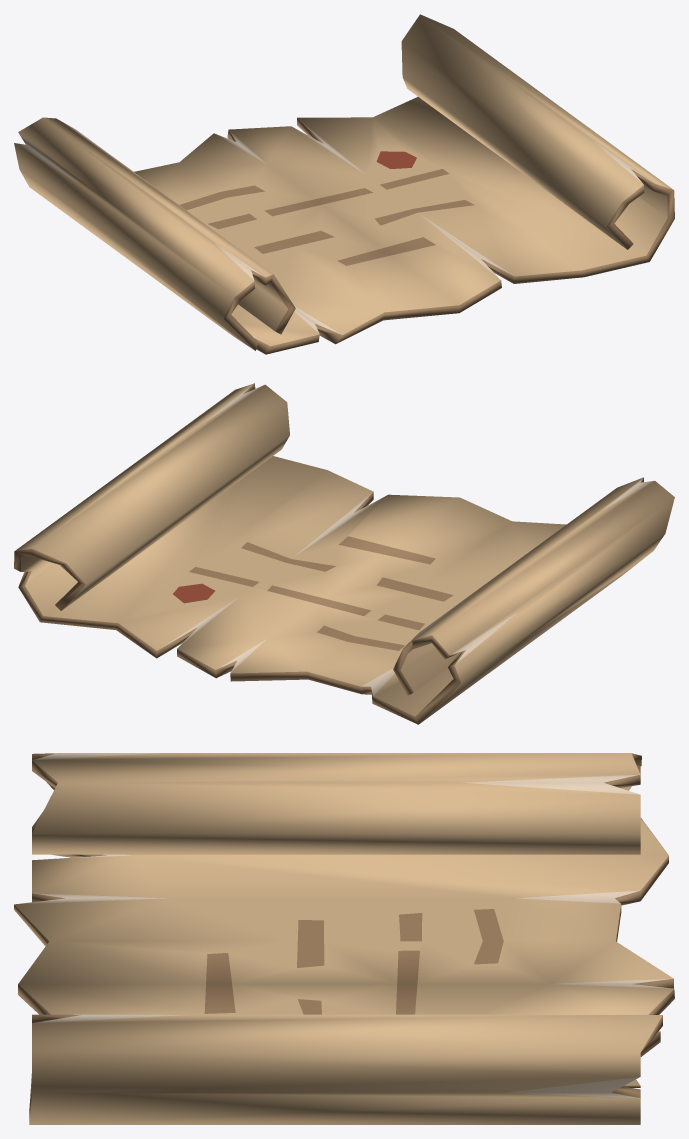
The model's file is Map_03.glb.
3 views of the same model, one above another, from view 1: azimuth 30°, elevation 25°; view 2: azimuth 150°, elevation 25°; view 3: azimuth 270°, elevation 25° (orthographic). The views are drawn at different scales.
Visible parts, largest first — view 1: Map_03; view 2: Map_03; view 3: Map_03.
Part boxes in pixels (<box>): Map_03: <box>14,14,674,354</box>; Map_03: <box>14,383,674,724</box>; Map_03: <box>14,753,674,1124</box>.
Size of what is drawn, in the model's own units: 0.6507 by 0.1135 by 0.6119.
Materials: 1 (1 with a texture image).
